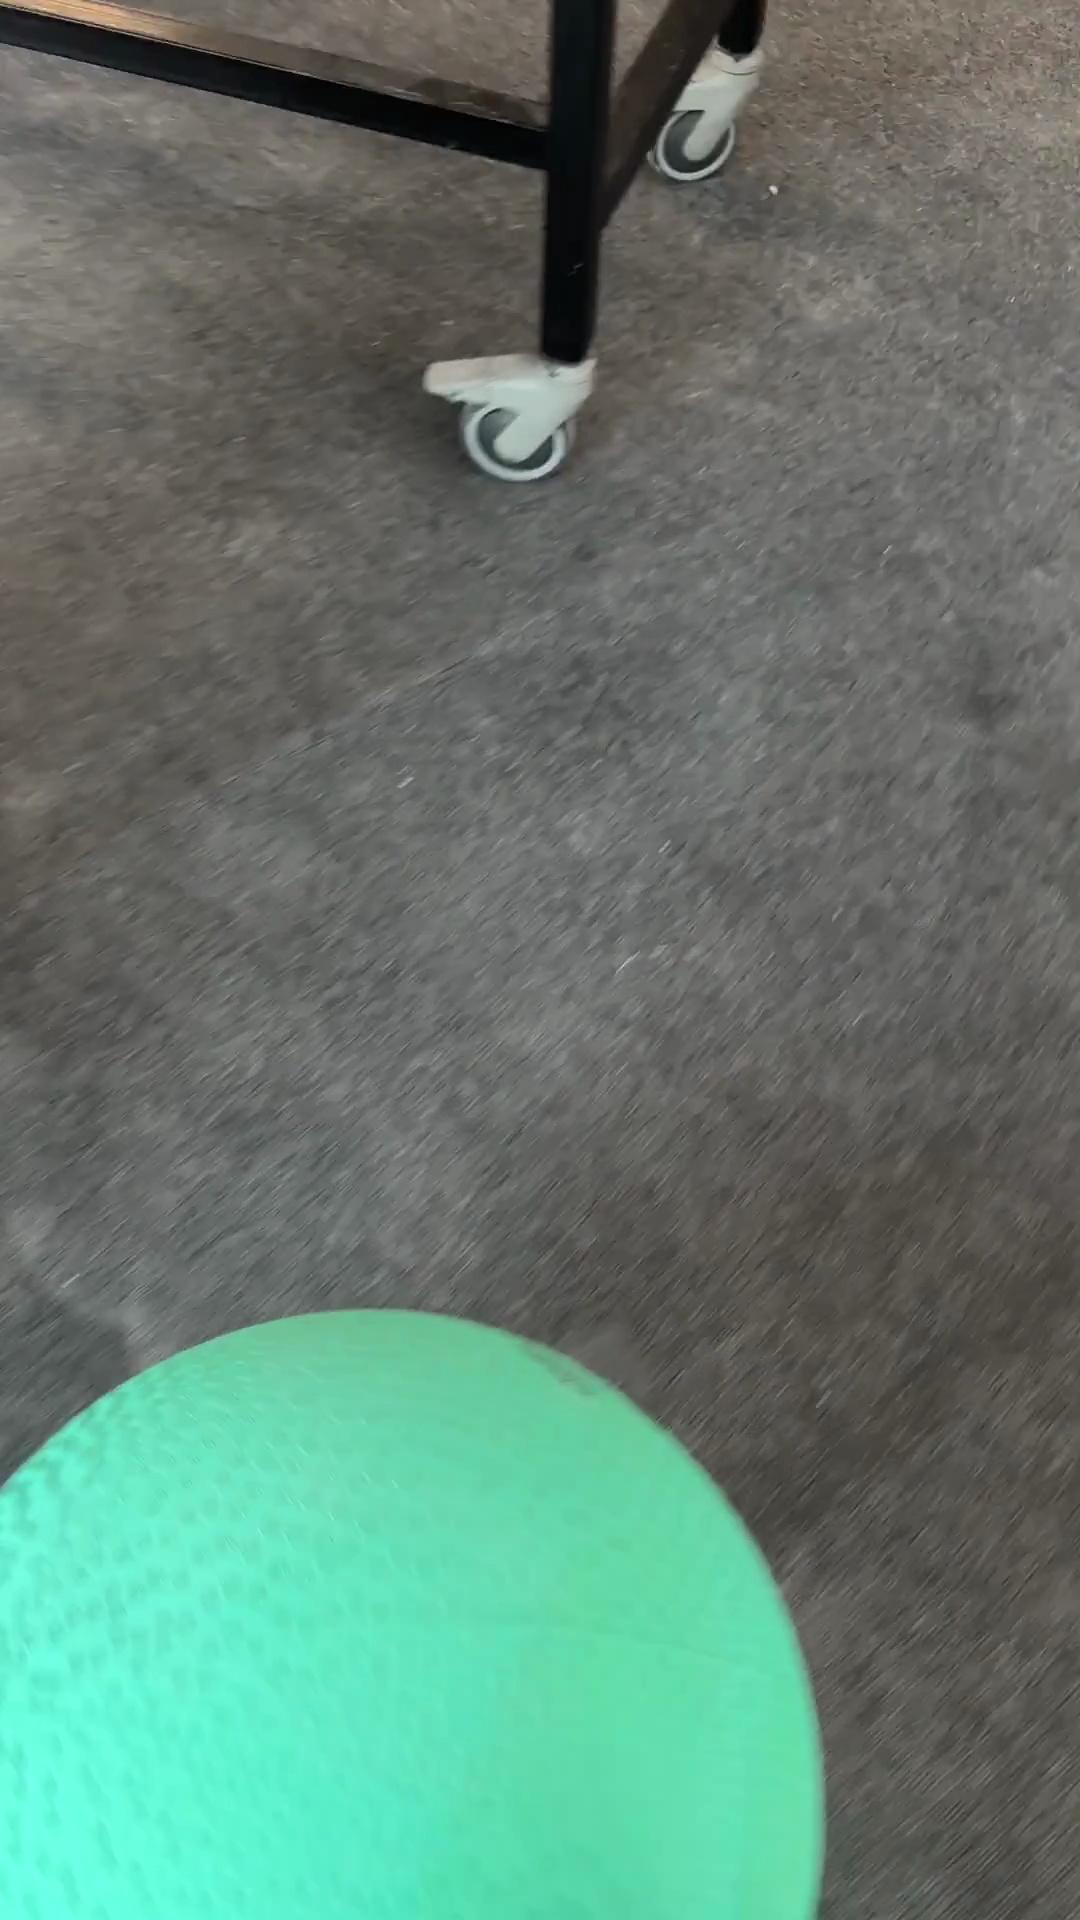ALGAE: (1, 1303, 828, 1916)
